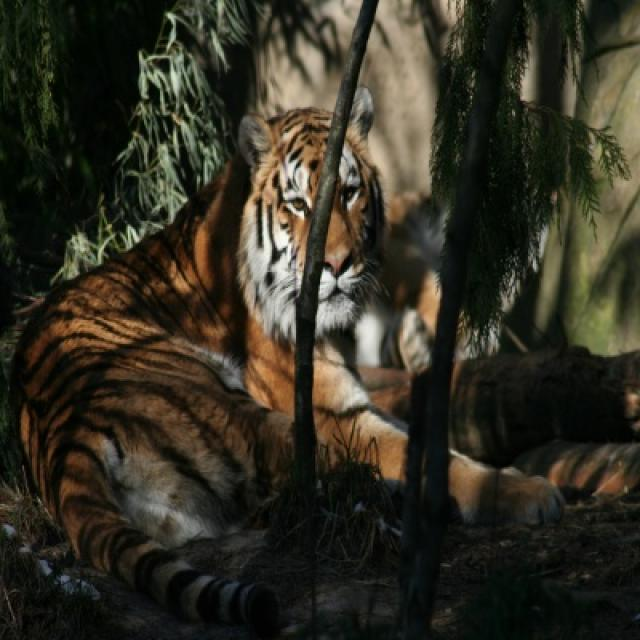Tiger: (9, 85, 560, 629)
